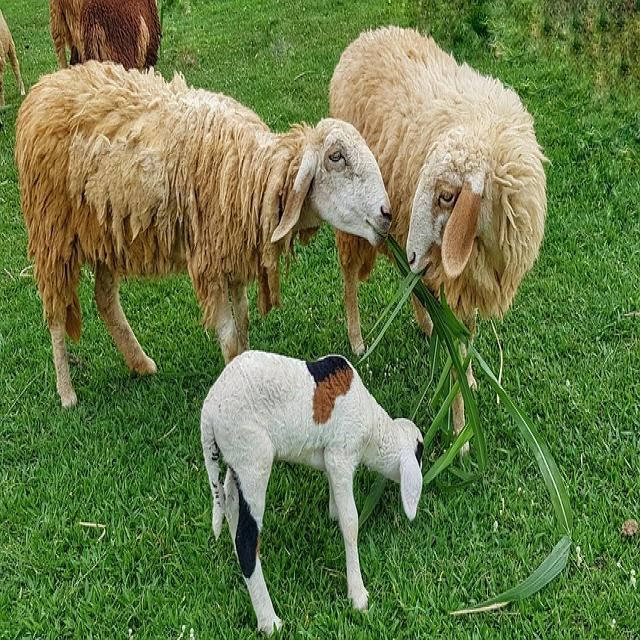sheep: (13, 57, 392, 409), (327, 23, 550, 459), (199, 347, 424, 637), (48, 0, 162, 71), (0, 8, 25, 110)
